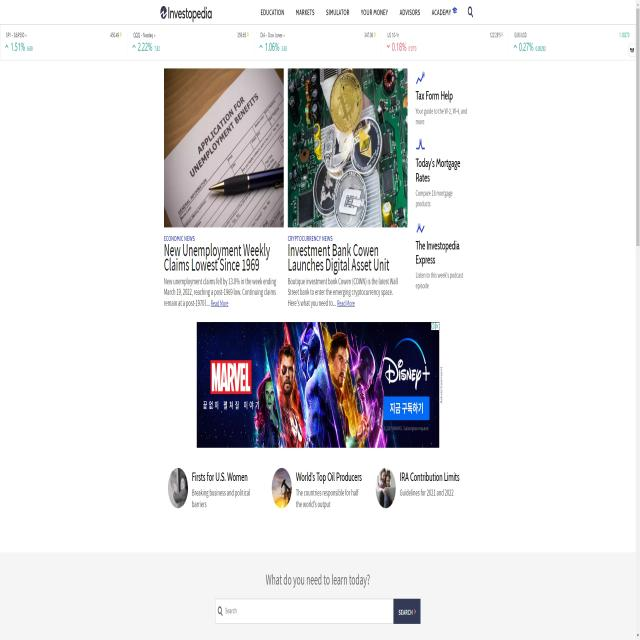search: (214, 598, 422, 626)
